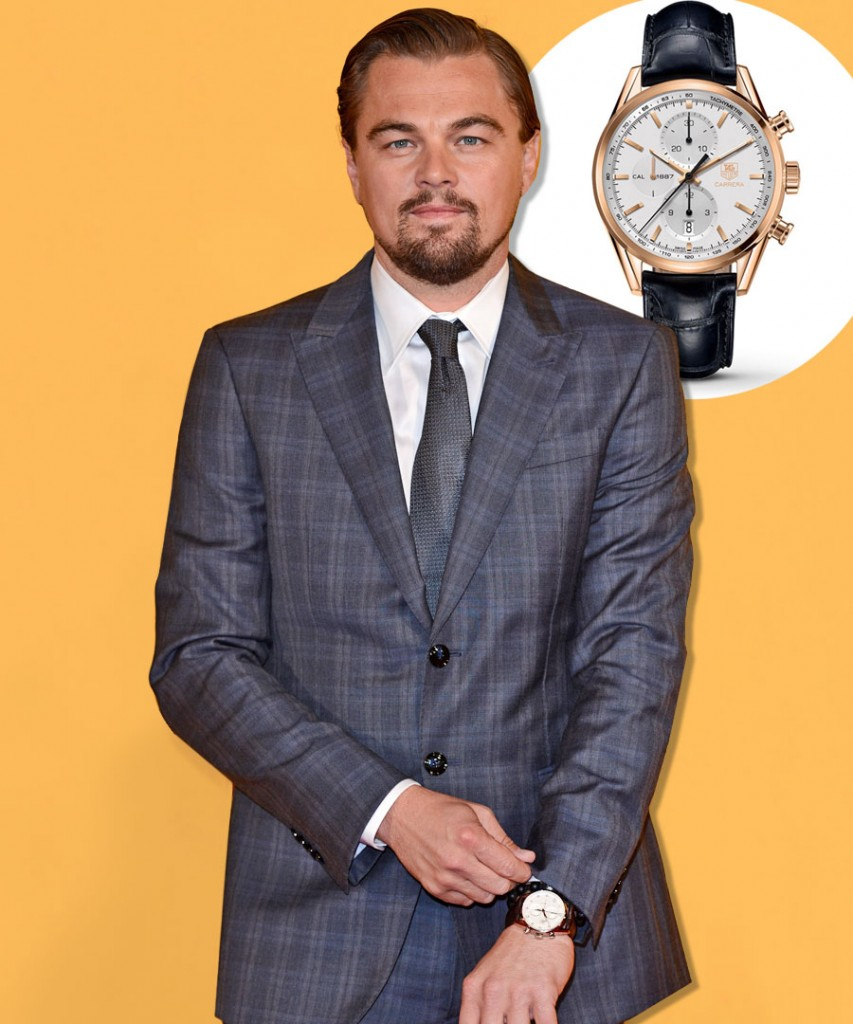clock: (595, 84, 781, 271)
